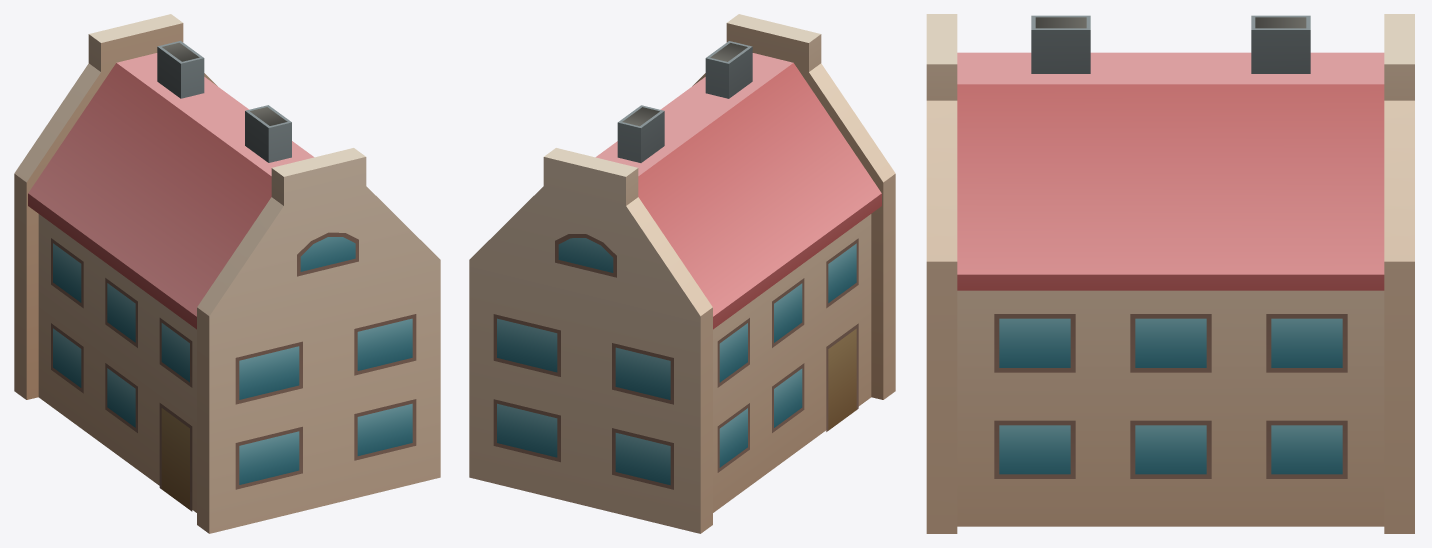
File: House_XL_B.fbx
3 renders of one model, left to right at view 1: azimuth 30°, elevation 25°; view 2: azimuth 150°, elevation 25°; view 3: azimuth 270°, elevation 25°, orthographic. The views are drawn at different scales.
Visible parts, largest first — view 1: House_XL_B; view 2: House_XL_B; view 3: House_XL_B.
Boxes of the visible parts, x1,y1,x2,y2 form: House_XL_B: (14, 14, 440, 533); House_XL_B: (469, 14, 895, 533); House_XL_B: (926, 14, 1414, 533).
Size of the model in its own units: 971 by 1406 by 1433.
